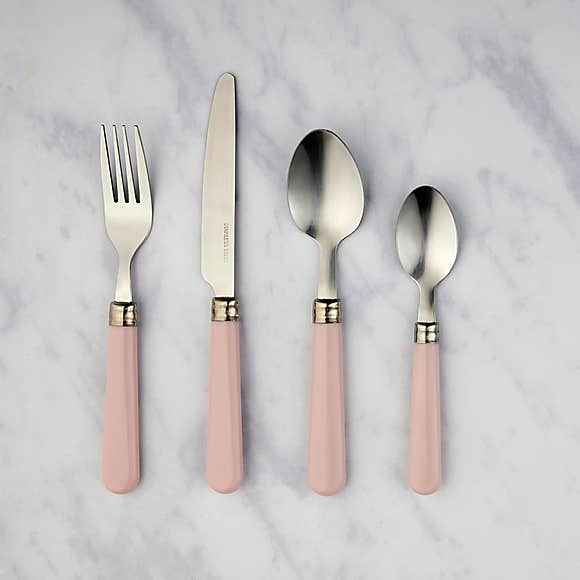Lyzka: (283, 127, 366, 257), (391, 181, 463, 288)
Noz: (198, 69, 239, 297)
Widelec: (93, 119, 156, 262)
